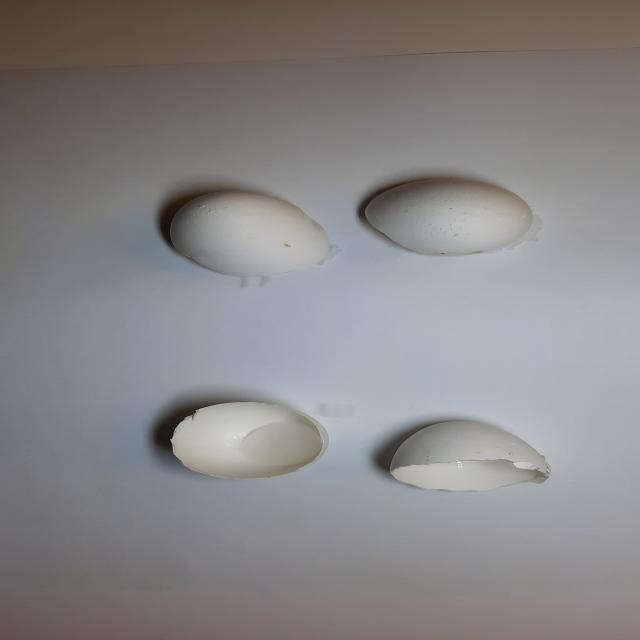egg shell: (163, 186, 335, 282), (152, 395, 335, 485), (358, 174, 537, 258), (384, 413, 552, 498)
